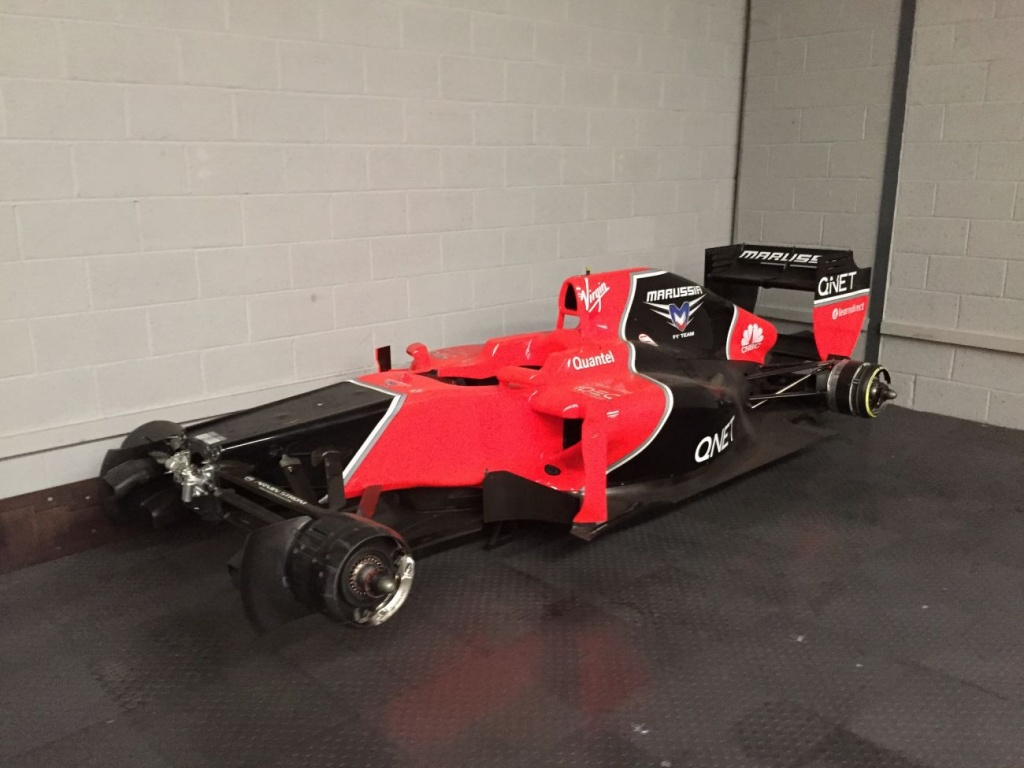f1_car: (79, 229, 926, 644)
